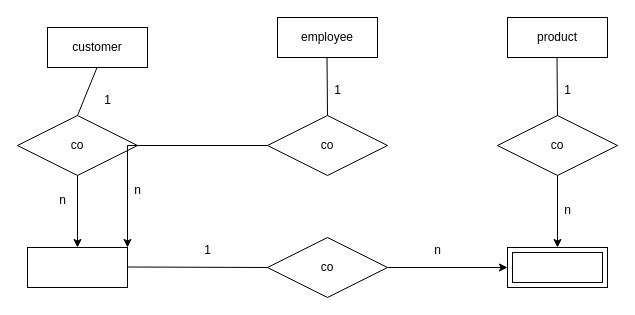
This 635x315 diagram has some shape labels left out. The shapes that lost their labels are listed below. From the top down, each one's box as (x1, y1, x2, y2) in pixels, then its label:
(26, 246, 128, 288): order
(506, 246, 608, 288): orderdetail
